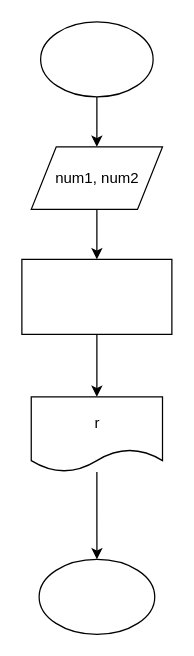
Image size: 194x656. Some labels were removed from this diagram. Here are the shapes that lost their labels. From the top down, the centre of each, then its label:
At pixel 96 59: "Inicio".
At pixel 96 596: "Fim".
